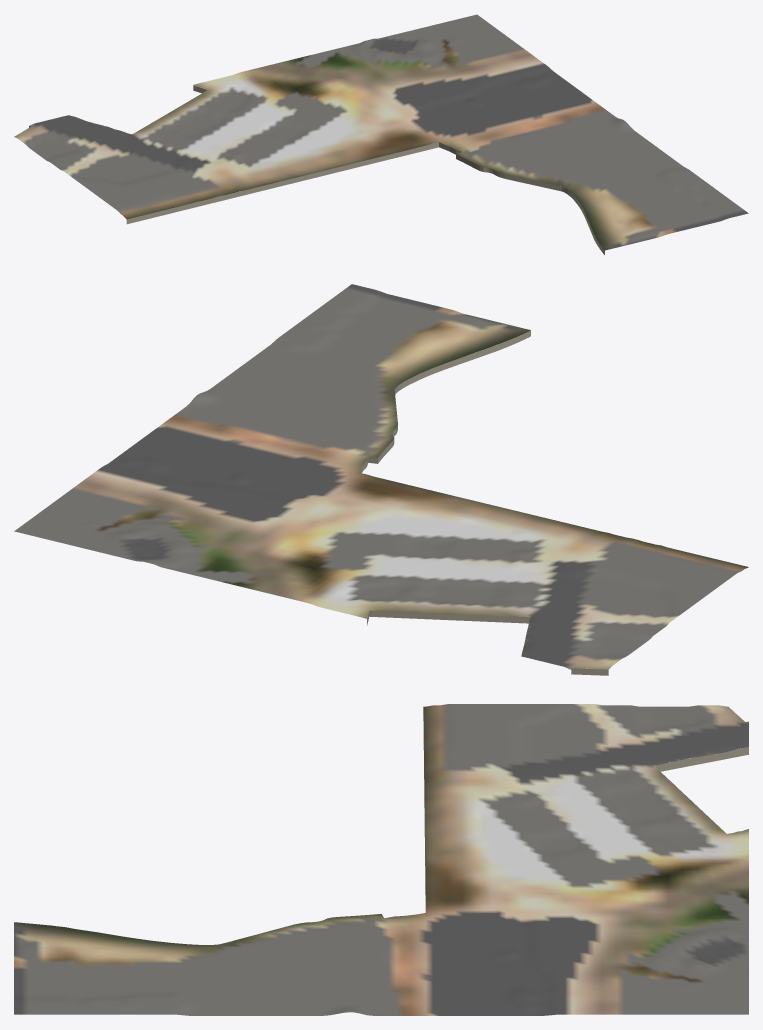
Rendered from terrain.glb.
3 views of the same model, one above another, from view 1: azimuth 30°, elevation 25°; view 2: azimuth 150°, elevation 25°; view 3: azimuth 270°, elevation 25° (orthographic). The views are drawn at different scales.
Parts seen in each view (by area): view 1: T_W1_N5_terrain; view 2: T_W1_N5_terrain; view 3: T_W1_N5_terrain.
Boxes of the visible parts, <box> form: T_W1_N5_terrain: <box>14,14,748,254</box>; T_W1_N5_terrain: <box>14,284,748,675</box>; T_W1_N5_terrain: <box>14,704,748,1015</box>.
Size of the model in its own units: 500 by 9 by 500.
